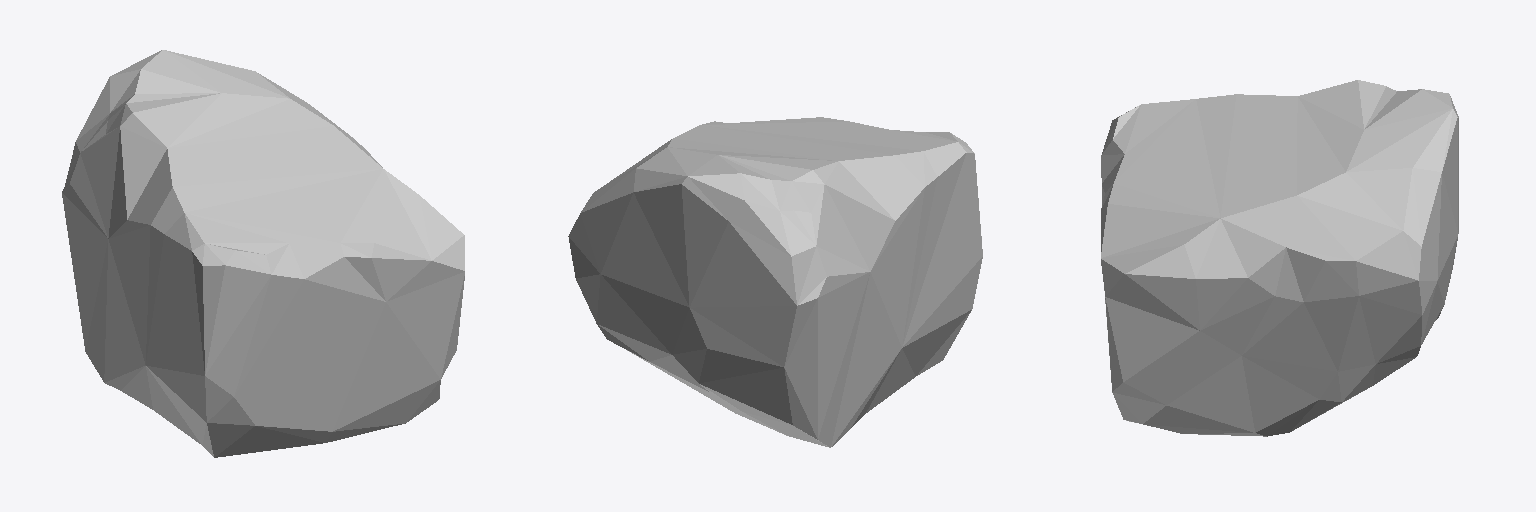
The model's file is rock2.obj.
3 renders of one model, left to right at view 1: azimuth 30°, elevation 25°; view 2: azimuth 150°, elevation 25°; view 3: azimuth 270°, elevation 25°, orthographic.
Parts seen in each view (by area): view 1: rocks_6_03.001; view 2: rocks_6_03.001; view 3: rocks_6_03.001.
Part boxes in pixels (bbox=[...]): rocks_6_03.001: bbox=[62, 50, 464, 457]; rocks_6_03.001: bbox=[568, 117, 982, 447]; rocks_6_03.001: bbox=[1101, 80, 1458, 436].
Size of the model in its own units: 3.38 by 3.54 by 3.95.